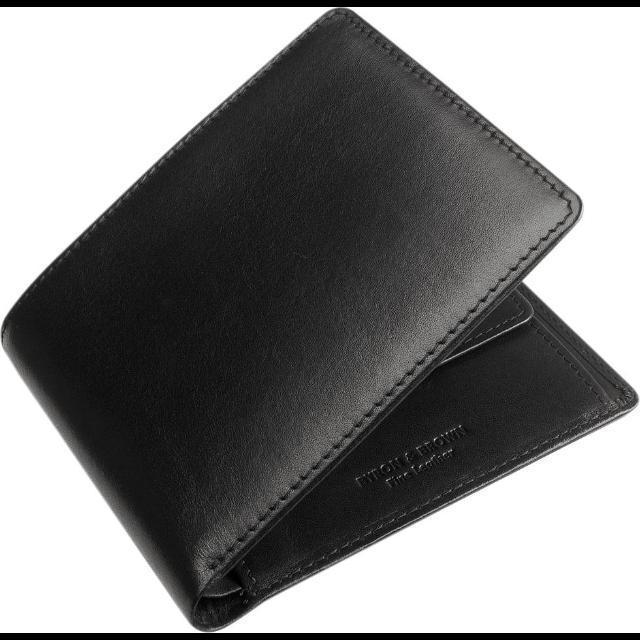wallet: (3, 6, 639, 632)
